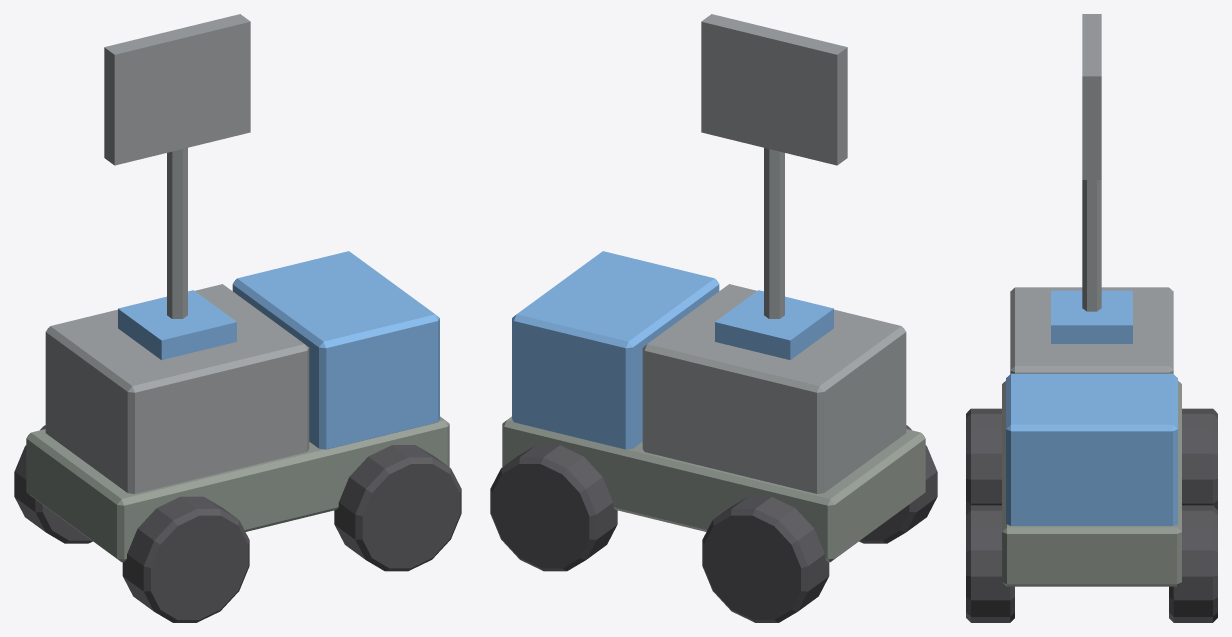
The model's file is jammer.glb.
The picture shows the model from 3 angles, left to right: view 1: azimuth 30°, elevation 25°; view 2: azimuth 150°, elevation 25°; view 3: azimuth 270°, elevation 25°; orthographic projection. The views are drawn at different scales.
Visible parts, largest first — view 1: Hull, Turret; view 2: Hull, Turret; view 3: Hull, Turret.
Boxes of the visible parts, bbox=[...] form: Hull: bbox=[14, 251, 461, 622]; Turret: bbox=[104, 14, 250, 360]; Hull: bbox=[490, 251, 937, 622]; Turret: bbox=[701, 14, 847, 360]; Hull: bbox=[966, 287, 1217, 622]; Turret: bbox=[1051, 14, 1132, 343].
Size of the model in its own units: 2.2 by 3.35 by 1.54.
